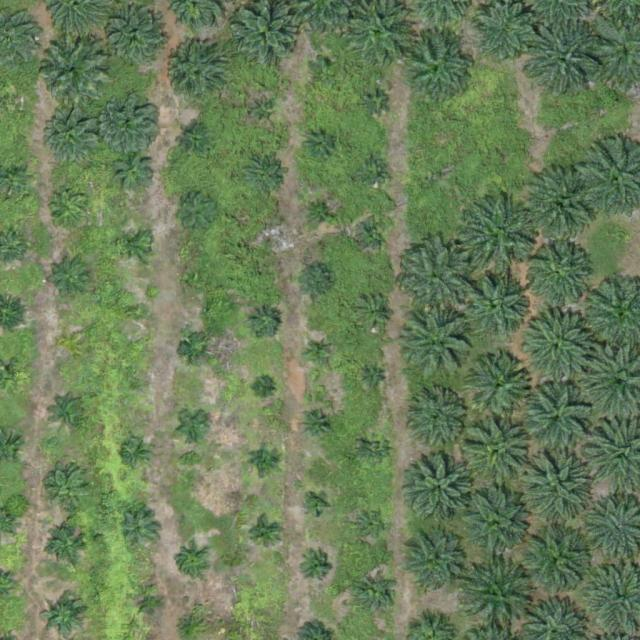Healthy: (525, 21, 603, 100), (463, 197, 541, 276), (518, 447, 596, 526), (35, 35, 106, 105), (527, 168, 597, 239), (401, 242, 471, 313), (520, 310, 591, 380), (522, 528, 592, 599), (464, 563, 534, 634), (462, 491, 532, 562), (464, 418, 534, 489), (403, 34, 473, 104), (407, 309, 477, 379), (520, 383, 590, 453), (409, 457, 472, 520), (105, 8, 167, 71), (161, 44, 223, 107), (465, 274, 527, 337), (469, 354, 531, 417), (102, 92, 164, 155), (527, 242, 589, 304), (402, 536, 464, 598), (412, 393, 467, 448), (47, 113, 102, 168), (184, 131, 208, 154)
Small: (173, 189, 220, 236), (48, 527, 87, 567), (49, 471, 89, 510), (51, 259, 90, 299), (297, 262, 336, 302), (51, 190, 90, 230), (359, 577, 398, 616), (121, 510, 160, 549), (53, 395, 92, 434), (246, 157, 285, 196), (115, 151, 154, 190), (248, 518, 279, 550), (301, 552, 332, 584), (359, 298, 390, 330), (119, 228, 150, 260), (248, 306, 279, 338), (306, 195, 337, 227), (135, 589, 166, 621), (362, 435, 393, 466), (250, 445, 281, 476), (180, 411, 211, 442), (121, 438, 152, 469), (176, 547, 207, 578), (305, 127, 336, 158), (181, 336, 212, 367), (359, 219, 390, 250), (361, 88, 392, 119), (358, 157, 389, 188), (246, 97, 277, 128), (310, 54, 341, 85), (303, 338, 334, 369), (355, 509, 386, 540), (303, 409, 334, 440), (185, 270, 209, 294), (305, 493, 329, 517), (2, 92, 26, 115), (255, 380, 271, 396), (64, 337, 80, 353), (262, 229, 278, 244), (366, 372, 382, 387), (130, 376, 145, 392), (130, 304, 145, 319)
